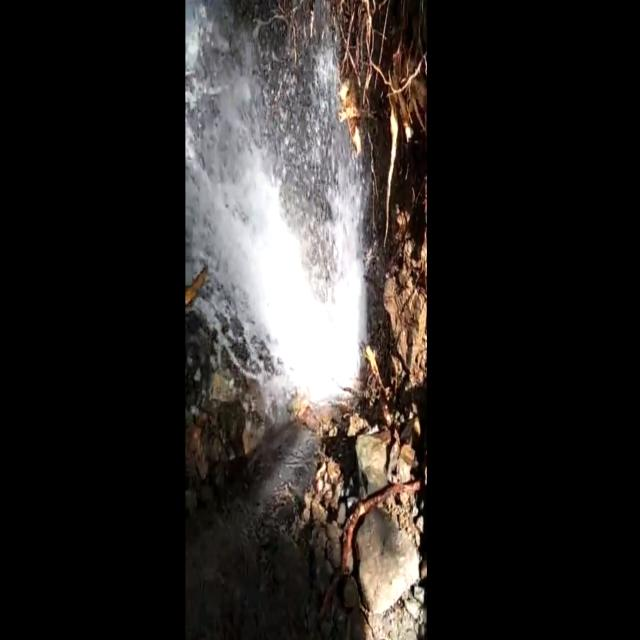leak: (186, 2, 365, 400)
